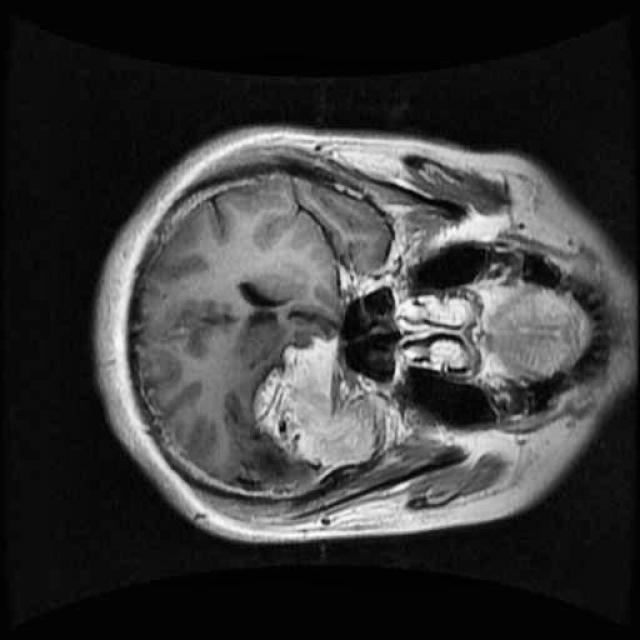Tumor: (238, 321, 408, 489)
